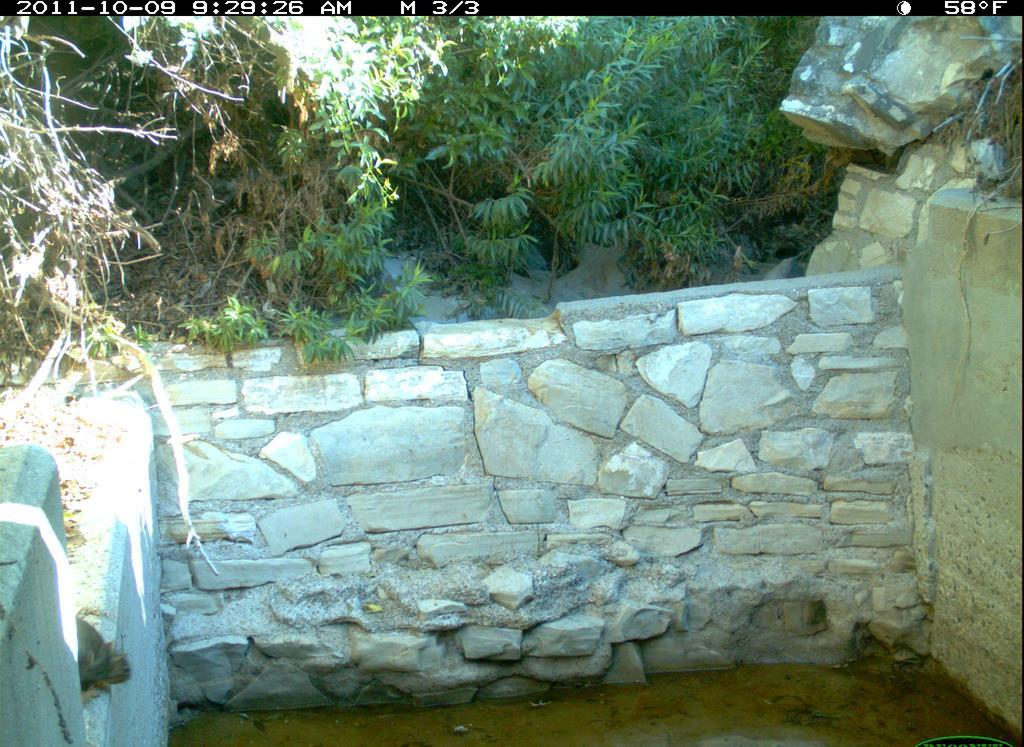squirrel: (71, 611, 140, 708)
